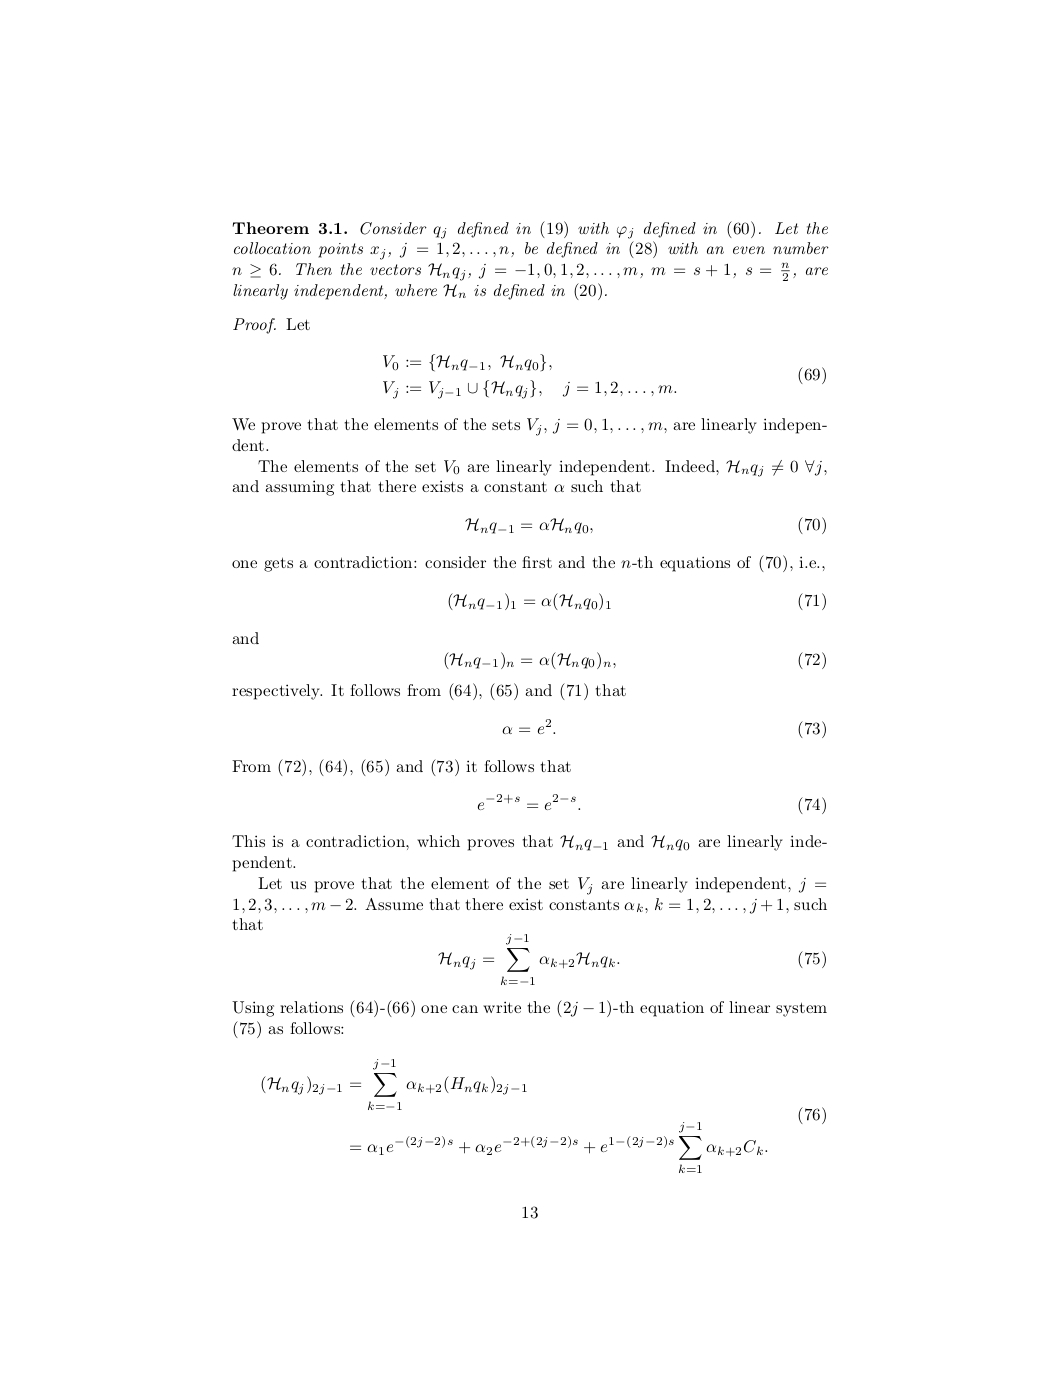formula: (350, 1122, 767, 1172), (383, 352, 825, 399), (438, 934, 825, 984), (261, 1059, 526, 1109), (477, 792, 825, 815), (444, 651, 825, 670), (448, 592, 825, 611), (502, 718, 825, 739), (465, 516, 825, 535)
